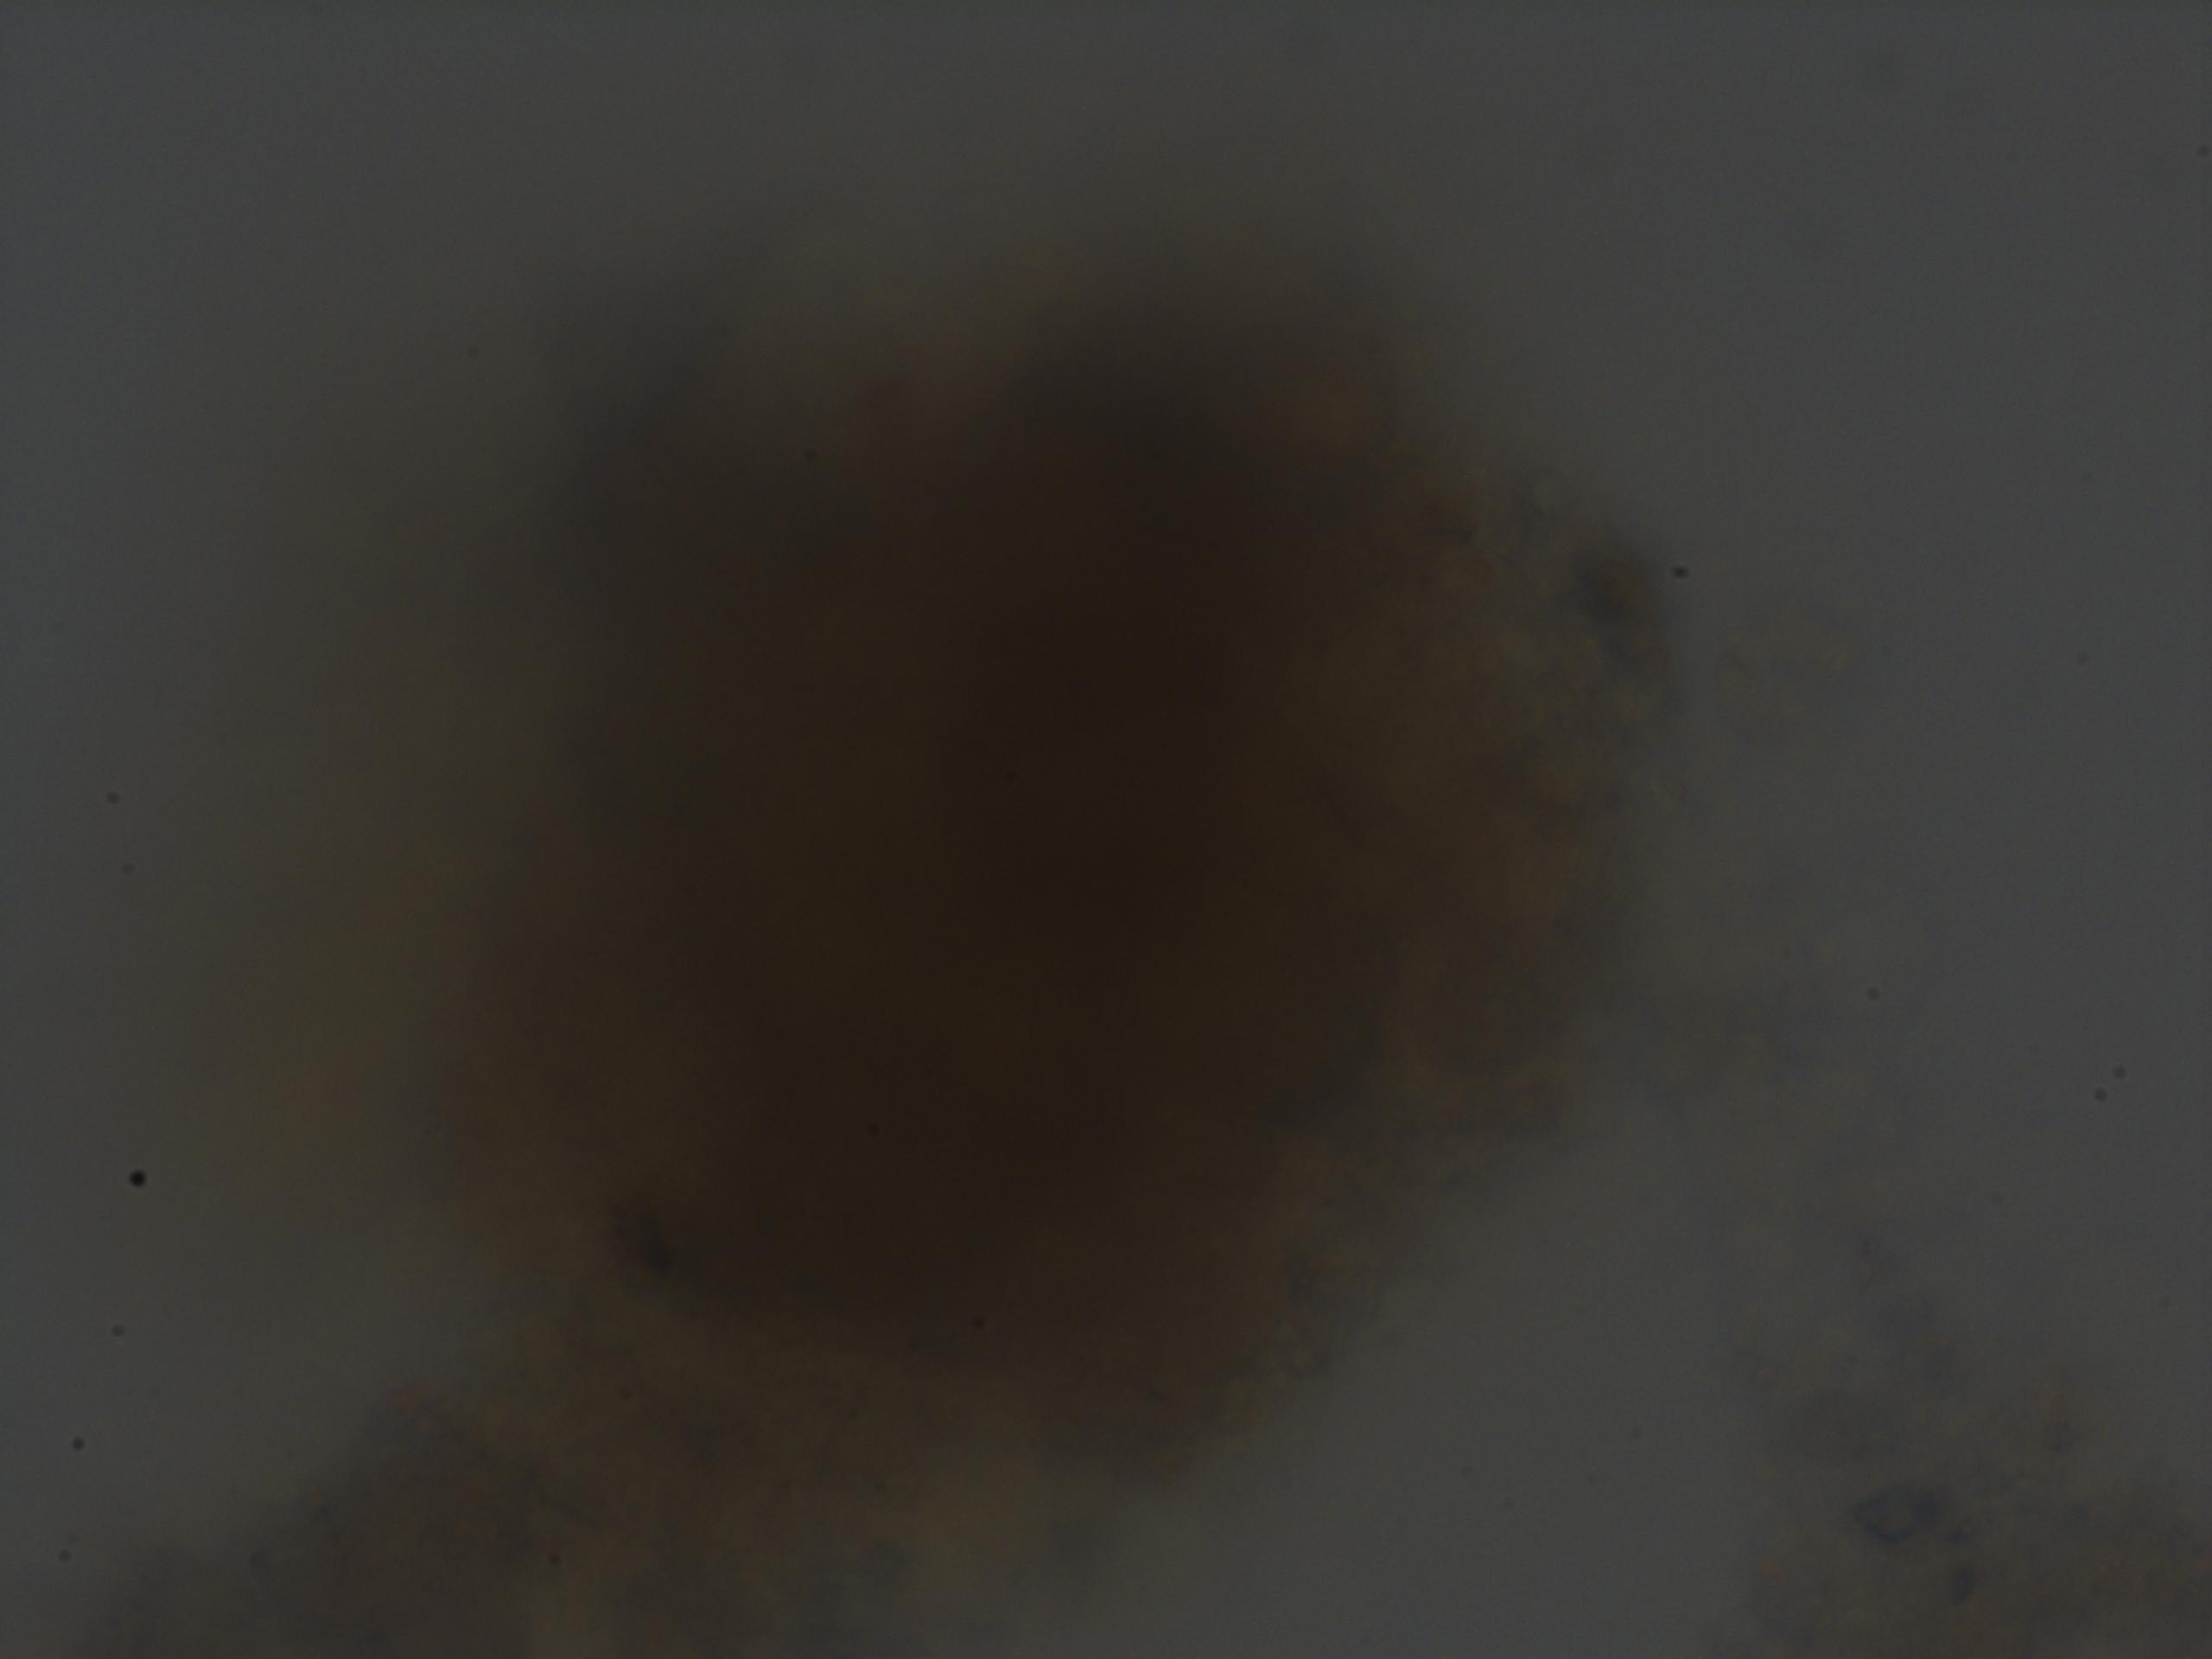spherical_floc: (465, 228, 1655, 1518)
